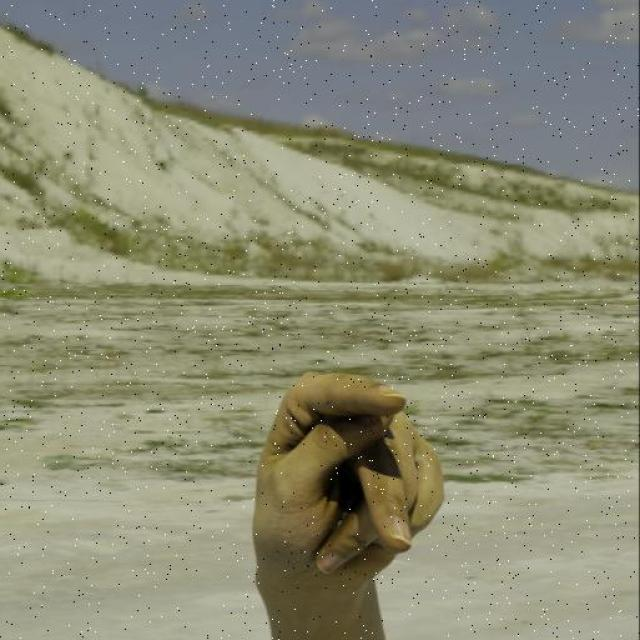P: (226, 335, 475, 640)
